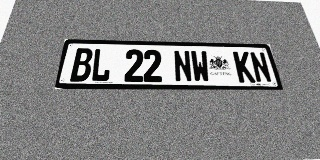2: (124, 49, 143, 82), (144, 49, 162, 82)
B: (70, 48, 93, 82)
K: (233, 51, 256, 83)
L: (90, 48, 112, 82)
N: (249, 52, 273, 83), (173, 50, 193, 82)
W: (190, 50, 211, 82)
